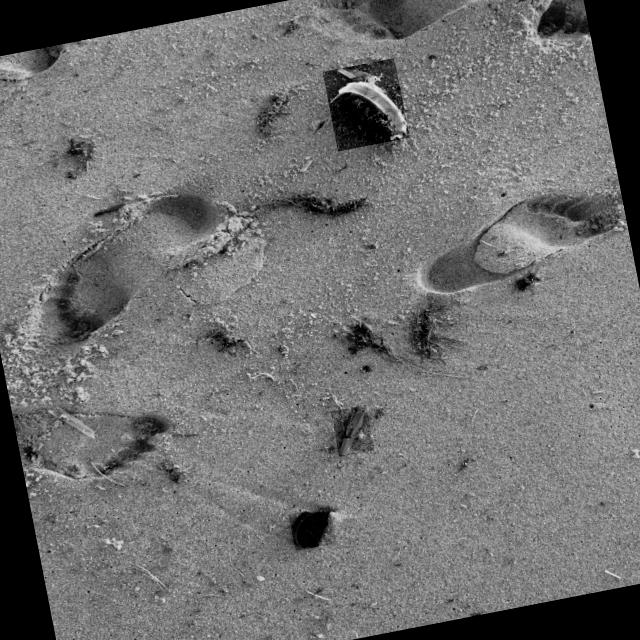Lid: (292, 510, 331, 549)
Other plastic bottle: (330, 69, 408, 141), (339, 406, 367, 456)
